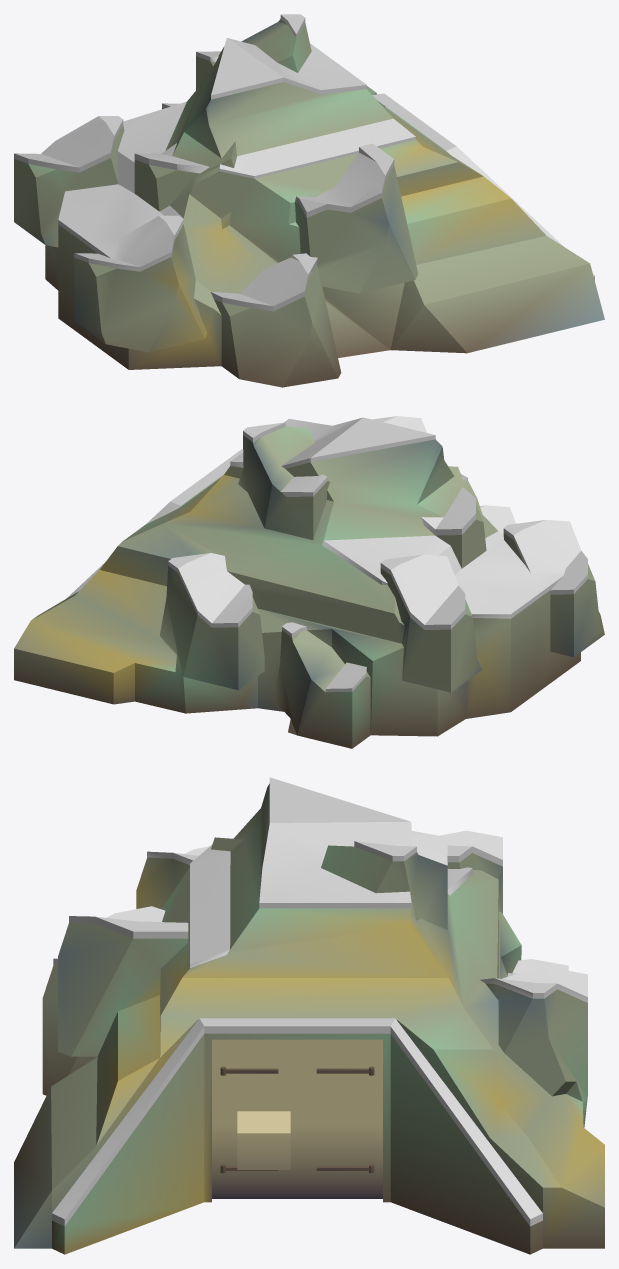
The model's file is Bunker.fbx.
3 renders of one model, top to bottom at view 1: azimuth 30°, elevation 25°; view 2: azimuth 150°, elevation 25°; view 3: azimuth 270°, elevation 25°, orthographic. The views are drawn at different scales.
Visible parts, largest first — view 1: Bunker; view 2: Bunker; view 3: Bunker.
Part boxes in pixels (x1,y1,x2,y2): Bunker: (14,14,604,387); Bunker: (14,416,604,748); Bunker: (14,777,604,1254).
Bounding box in the file's own units: 1056 × 539 × 952.
